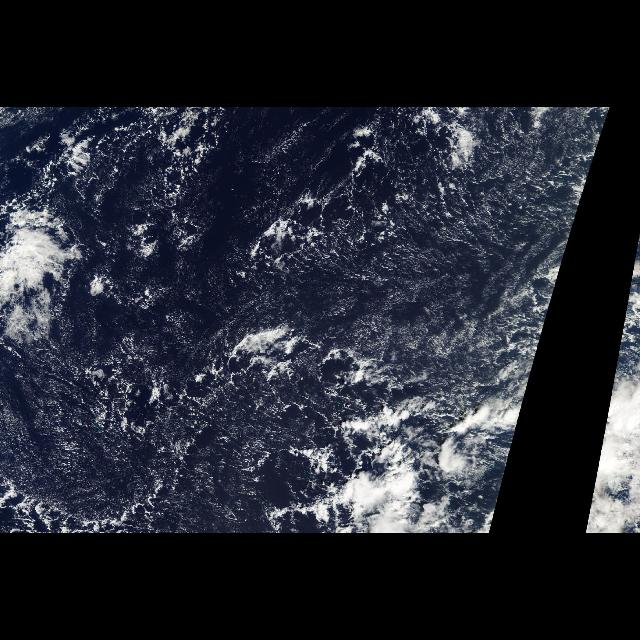Fish: (3, 335, 465, 533)
Gravel: (21, 321, 331, 534), (247, 110, 529, 298)
Sugar: (300, 123, 588, 381), (9, 346, 253, 526)
